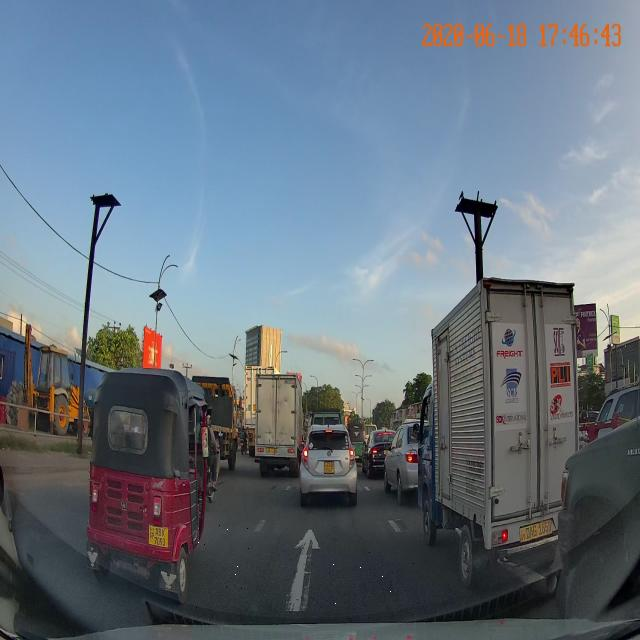forward: (182, 522, 457, 608)
